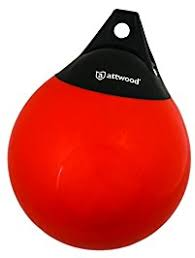buoy: (7, 75, 192, 249)
